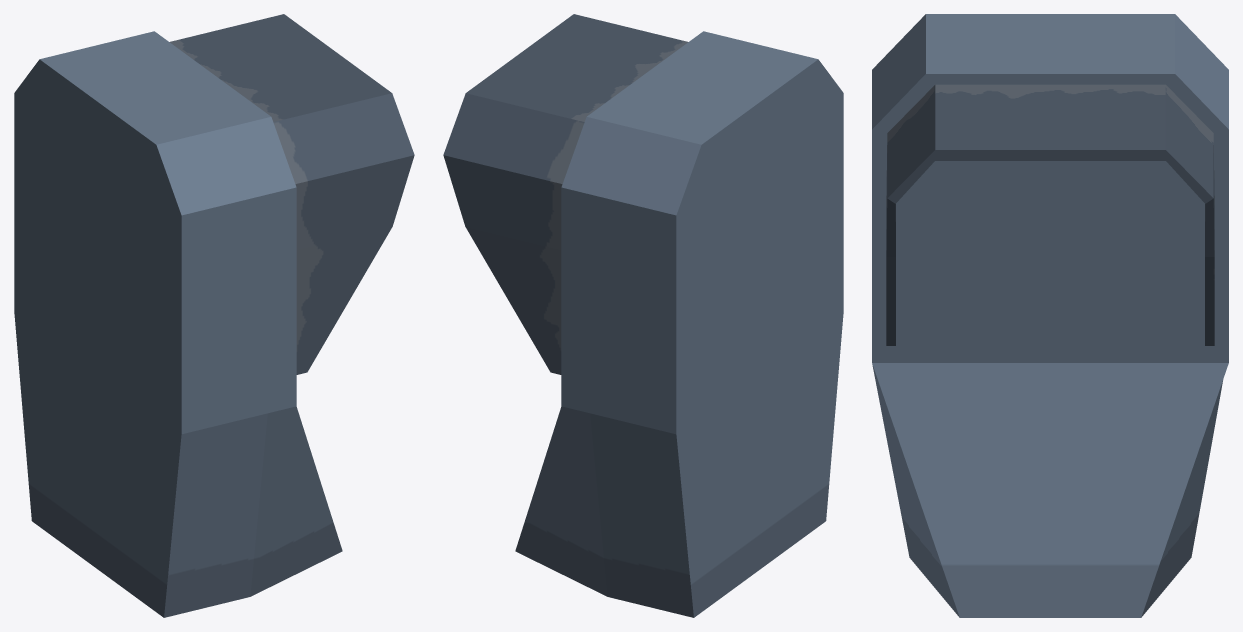
Rendered from ganymedeColnsoleHousing.obj.
The picture shows the model from 3 angles, left to right: view 1: azimuth 30°, elevation 25°; view 2: azimuth 150°, elevation 25°; view 3: azimuth 270°, elevation 25°; orthographic projection. The views are drawn at different scales.
Parts seen in each view (by area): view 1: Cube.001, Cube; view 2: Cube.001, Cube; view 3: Cube.001, Cube.
Boxes of the visible parts, bbox=[...] form: Cube.001: bbox=[14, 31, 342, 617]; Cube: bbox=[169, 14, 414, 374]; Cube.001: bbox=[515, 31, 843, 617]; Cube: bbox=[443, 14, 688, 374]; Cube.001: bbox=[872, 14, 1228, 617]; Cube: bbox=[886, 84, 1214, 345].
Size of the model in its own units: 3.77 by 7.01 by 4.55.
2 materials, 2 textured.
